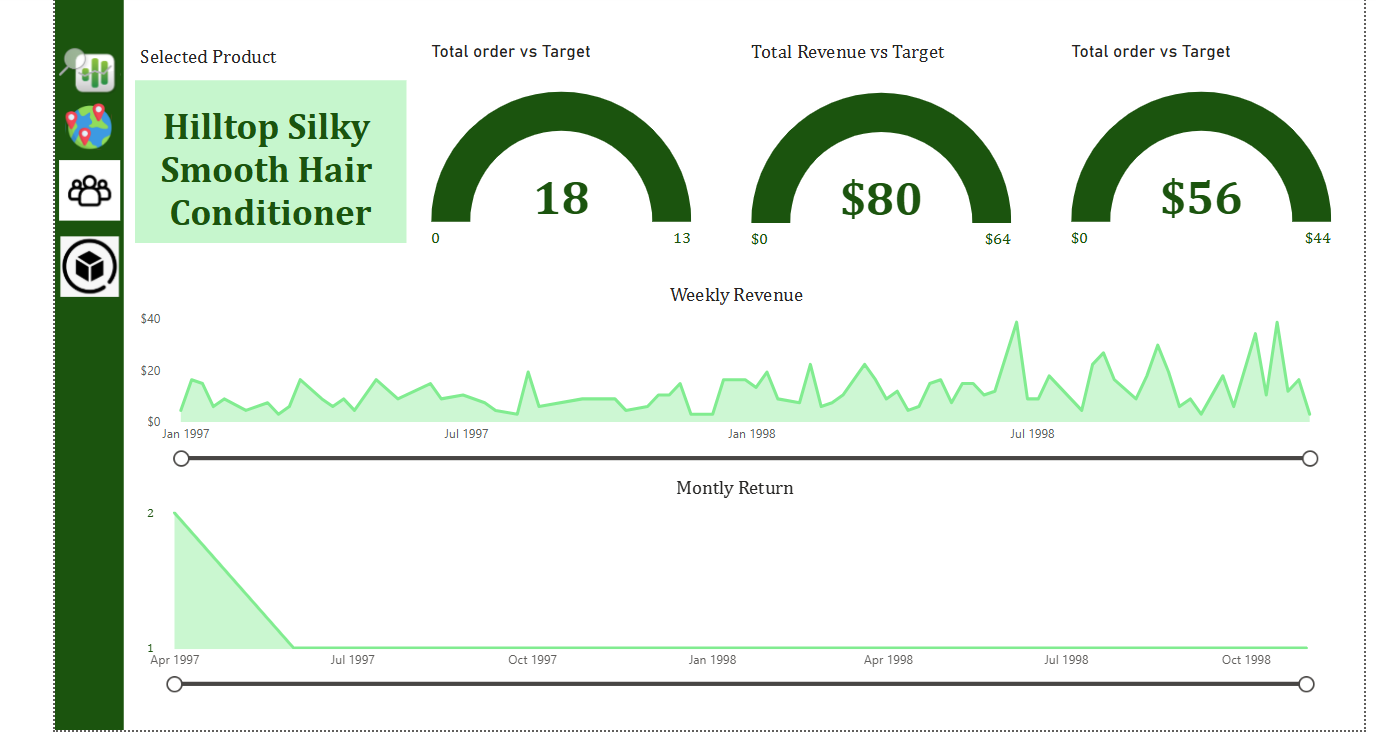

What the dashboard file says about the page in this screenshot:
{"tool":"powerbi","page":{"name":"products","canvas":[1280,720],"ordinal":3},"visuals":[{"type":"shape","box":[0,0,57.5,720.2],"z":0},{"type":"shape","box":[10,0,57.5,720.2],"z":1000},{"type":"gauge","title":"Total order vs Target","fields":{"Y":["Measure.Total orders"],"MaxValue":["Measure.Target Order"]},"box":[363.1,45.5,264.5,237.5],"z":2000},{"type":"gauge","title":"Total Revenue vs Target","fields":{"Y":["Measure.Total revenue X"],"MaxValue":["Measure.Target Revenue"]},"box":[676.5,45.5,264.5,237.5],"z":3000},{"type":"gauge","title":"Total order vs Target","fields":{"Y":["Measure.Total Profit"],"MaxValue":["Measure.Target profit"]},"box":[989.9,45.5,264.5,237.5],"z":4000},{"type":"areaChart","title":"Weekly Revenue","fields":{"Category":["Calender.Year","Calender.Start of Month","Calender.Start of Week","Calender.Dates"],"Y":["Measure.Total revenue X"]},"box":[78.3,282.5,1176.4,199.3],"z":5000},{"type":"areaChart","title":"Montly Return","fields":{"Y":["Measure.Total returns"],"Category":["Calender.Year","Calender.Start of Quarter","Calender.Start of Month","Calender.Dates"]},"box":[77,472,1176.4,214],"z":6000},{"type":"card","fields":{"Values":["Min(Products.product_name)"]},"box":[78.3,84.4,265.4,159],"z":7000},{"type":"textbox","box":[78.3,45.2,174.9,31.8],"z":8000},{"type":"actionButton","box":[0,93.1,57.7,40.4],"z":9000},{"type":"actionButton","box":[0,39,67.8,73.6],"z":10000},{"type":"actionButton","box":[5.8,102.4,67.8,53.4],"z":11000},{"type":"actionButton","box":[0,155.8,67.8,73.6],"z":12000},{"type":"actionButton","box":[0,229.4,67.8,73.6],"z":13000}]}

Visuals, with their boxes on the page's 1280x720 design canvas (x1, y1, x2, y2). These are canvas units, not pixel positions in the 1376x733 screenshot, which may show the page scaled, cropped or inside an application window:
shape: <box>0,0,58,720</box>
shape: <box>10,0,68,720</box>
"Total order vs Target" gauge: <box>363,46,628,283</box>
"Total Revenue vs Target" gauge: <box>676,46,941,283</box>
"Total order vs Target" gauge: <box>990,46,1254,283</box>
"Weekly Revenue" areaChart: <box>78,282,1255,482</box>
"Montly Return" areaChart: <box>77,472,1253,686</box>
card - Min(Products.product_name): <box>78,84,344,243</box>
textbox: <box>78,45,253,77</box>
actionButton: <box>0,93,58,134</box>
actionButton: <box>0,39,68,113</box>
actionButton: <box>6,102,74,156</box>
actionButton: <box>0,156,68,229</box>
actionButton: <box>0,229,68,303</box>
